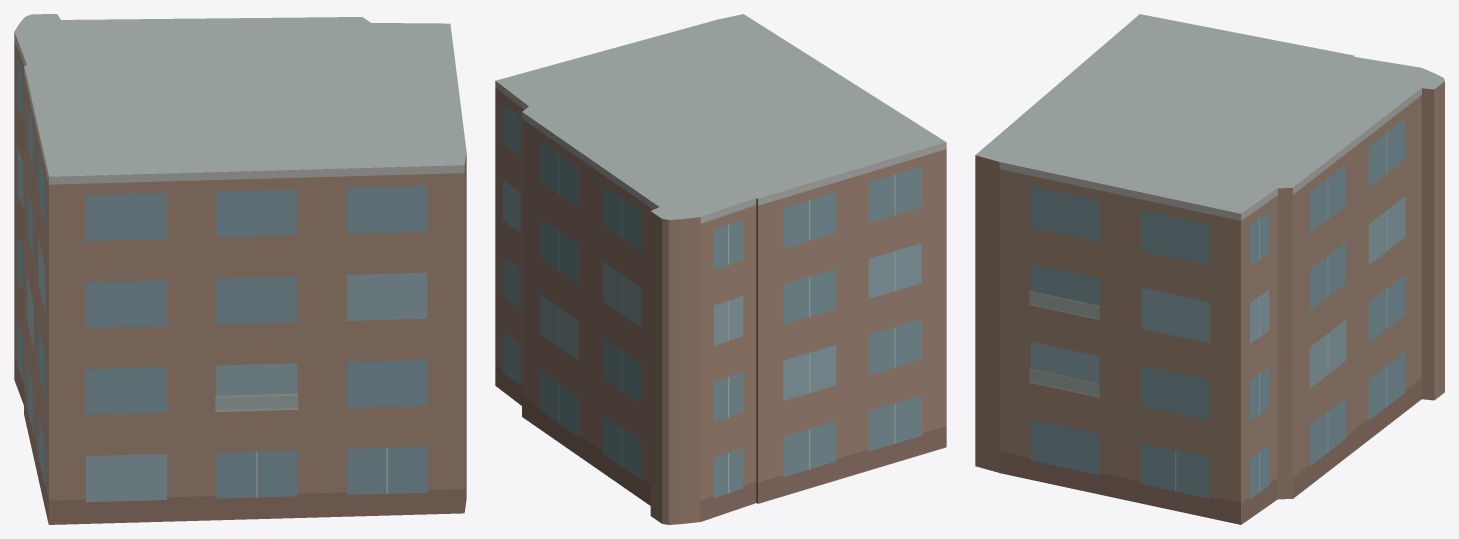
The model's file is survey-upis-32679407.glb.
The picture shows the model from 3 angles, left to right: view 1: azimuth 30°, elevation 25°; view 2: azimuth 150°, elevation 25°; view 3: azimuth 270°, elevation 25°; orthographic projection. The views are drawn at different scales.
Parts seen in each view (by area): view 1: survey-upis-32679407.tmp; view 2: survey-upis-32679407.tmp; view 3: survey-upis-32679407.tmp.
Part boxes in pixels (<box>): survey-upis-32679407.tmp: <box>14,14,466,524</box>; survey-upis-32679407.tmp: <box>495,14,946,524</box>; survey-upis-32679407.tmp: <box>975,14,1444,524</box>.
Size of the model in its own units: 14.89 by 10.8 by 14.79.
